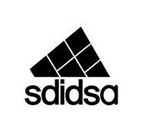adidas Fake: (19, 25, 123, 109)
